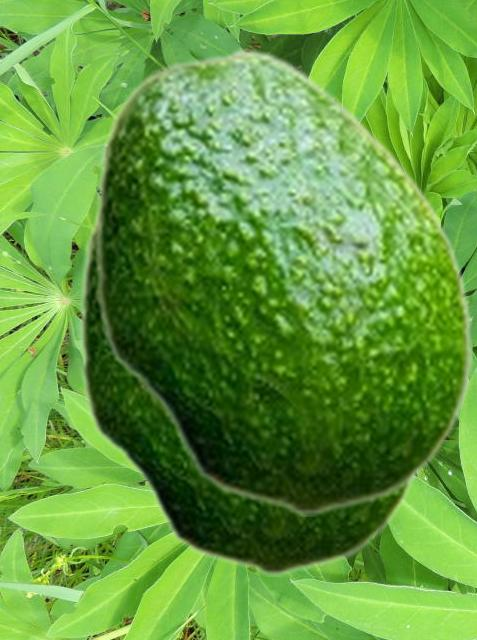avocado: (92, 46, 471, 515), (77, 210, 422, 575)
